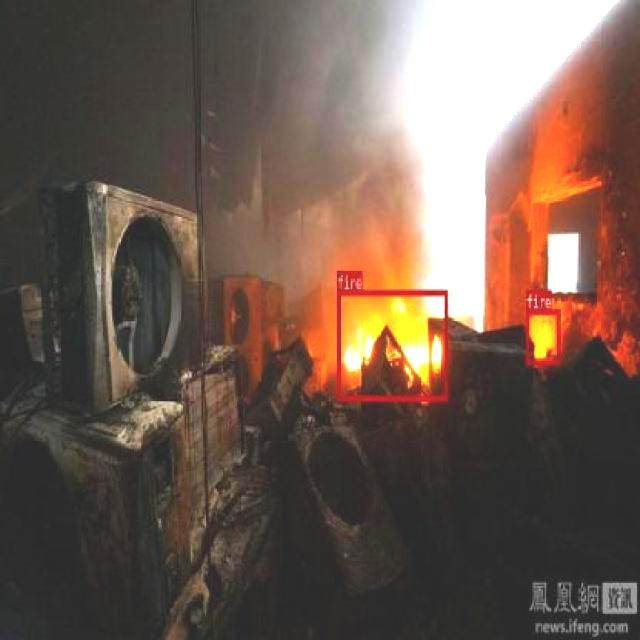fire: (336, 289, 447, 400), (526, 308, 560, 364)
